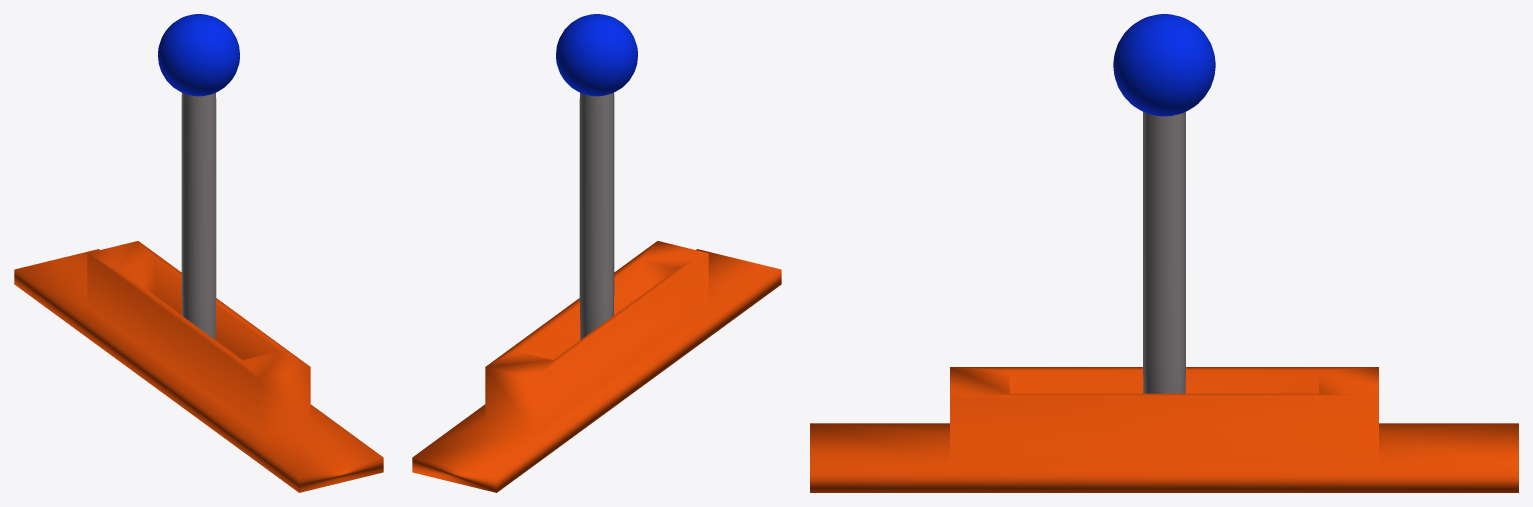
File: lever.glb
3 views of the same model, side by side, from view 1: azimuth 30°, elevation 25°; view 2: azimuth 150°, elevation 25°; view 3: azimuth 270°, elevation 25° (orthographic). The views are drawn at different scales.
Visible parts, largest first — view 1: Cube, Cube.001, Sphere; view 2: Cube, Cube.001, Sphere; view 3: Cube, Cube.001, Sphere.
Part boxes in pixels (x1,y1,x2,y2): Cube: (14,241,383,492); Cube.001: (181,93,216,339); Sphere: (158,14,239,96); Cube: (412,241,781,492); Cube.001: (579,93,614,339); Sphere: (556,14,637,96); Cube: (810,367,1518,492); Cube.001: (1143,112,1185,393); Sphere: (1113,14,1215,116).
Bounding box in the file's own units: 0.8219 × 3.36 × 4.81.
